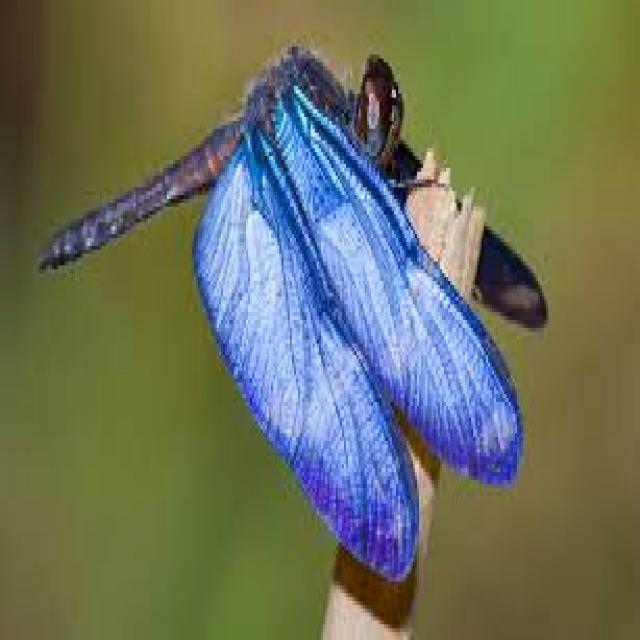dragonfly: (40, 47, 546, 578)
